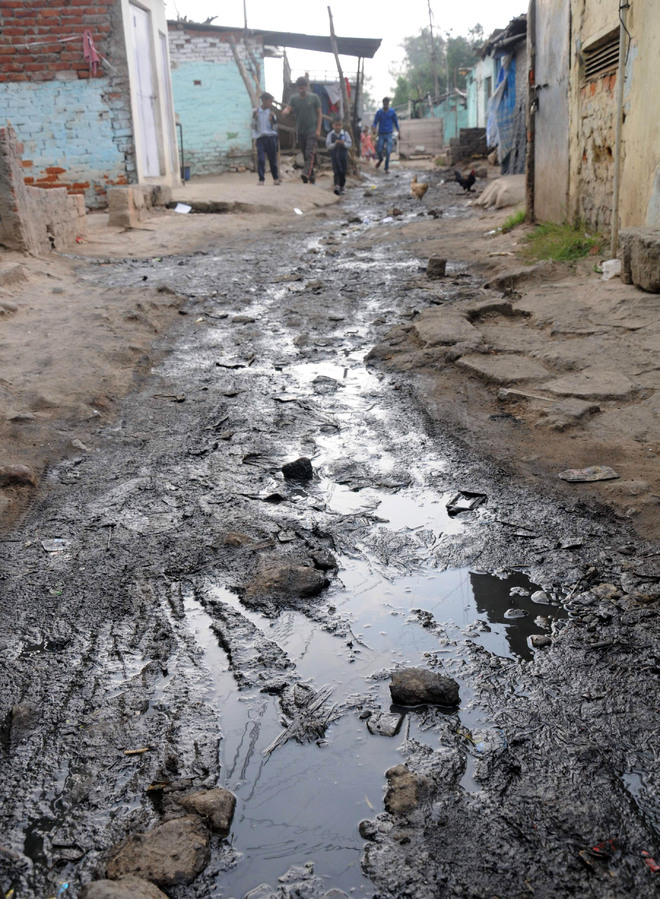person: (282, 73, 325, 185), (240, 88, 289, 179), (323, 110, 358, 198), (372, 93, 407, 181)
water: (306, 564, 560, 676), (227, 727, 375, 890), (323, 414, 456, 485), (318, 667, 390, 744), (371, 498, 489, 537), (288, 355, 402, 394), (303, 477, 387, 516), (259, 609, 326, 656), (165, 197, 290, 221), (225, 684, 285, 731), (192, 613, 225, 690), (344, 251, 422, 268)
